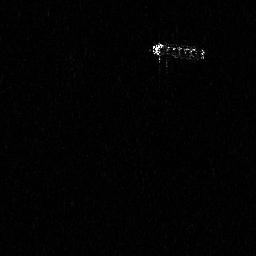ship: (151, 39, 208, 68)
